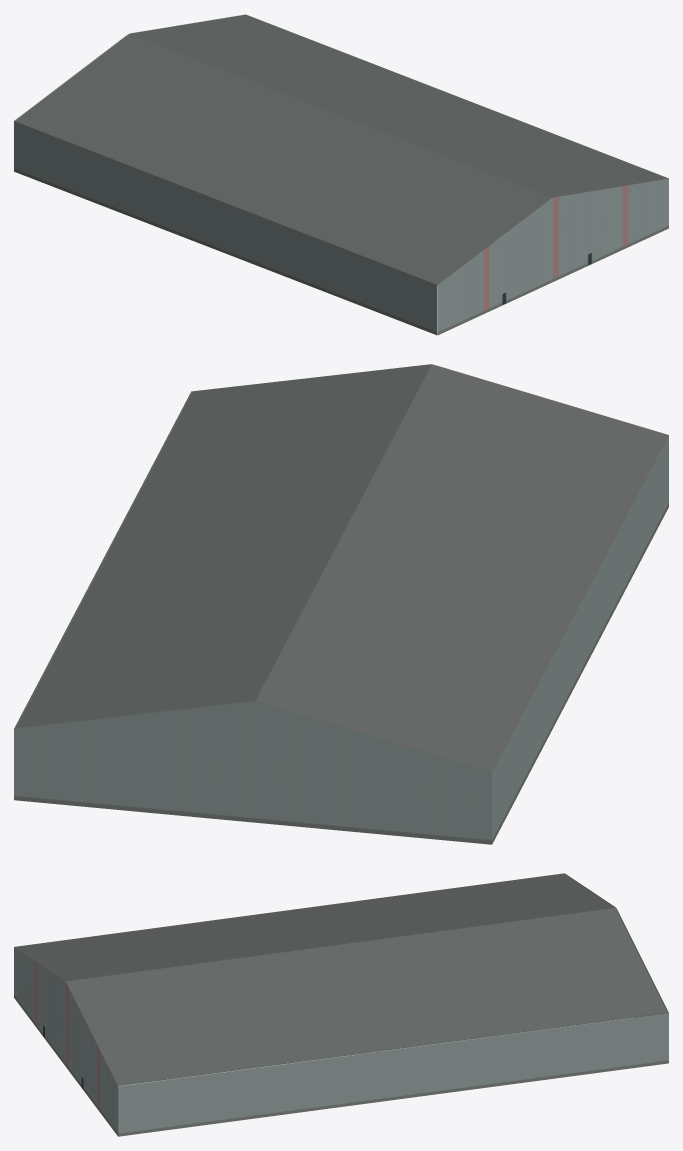
3 views of the same model, one above another, from view 1: azimuth 30°, elevation 25°; view 2: azimuth 150°, elevation 25°; view 3: azimuth 270°, elevation 25° (orthographic). The views are drawn at different scales.
Parts seen in each view (by area): view 1: 0363100012067126; view 2: 0363100012067126; view 3: 0363100012067126.
Boxes of the visible parts, <box> form: 0363100012067126: <box>14,14,668,335</box>; 0363100012067126: <box>14,364,668,844</box>; 0363100012067126: <box>14,873,668,1136</box>.
Bounding box in the file's own units: 87.02 × 16.32 × 113.
Materials: 2 (1 with a texture image).
